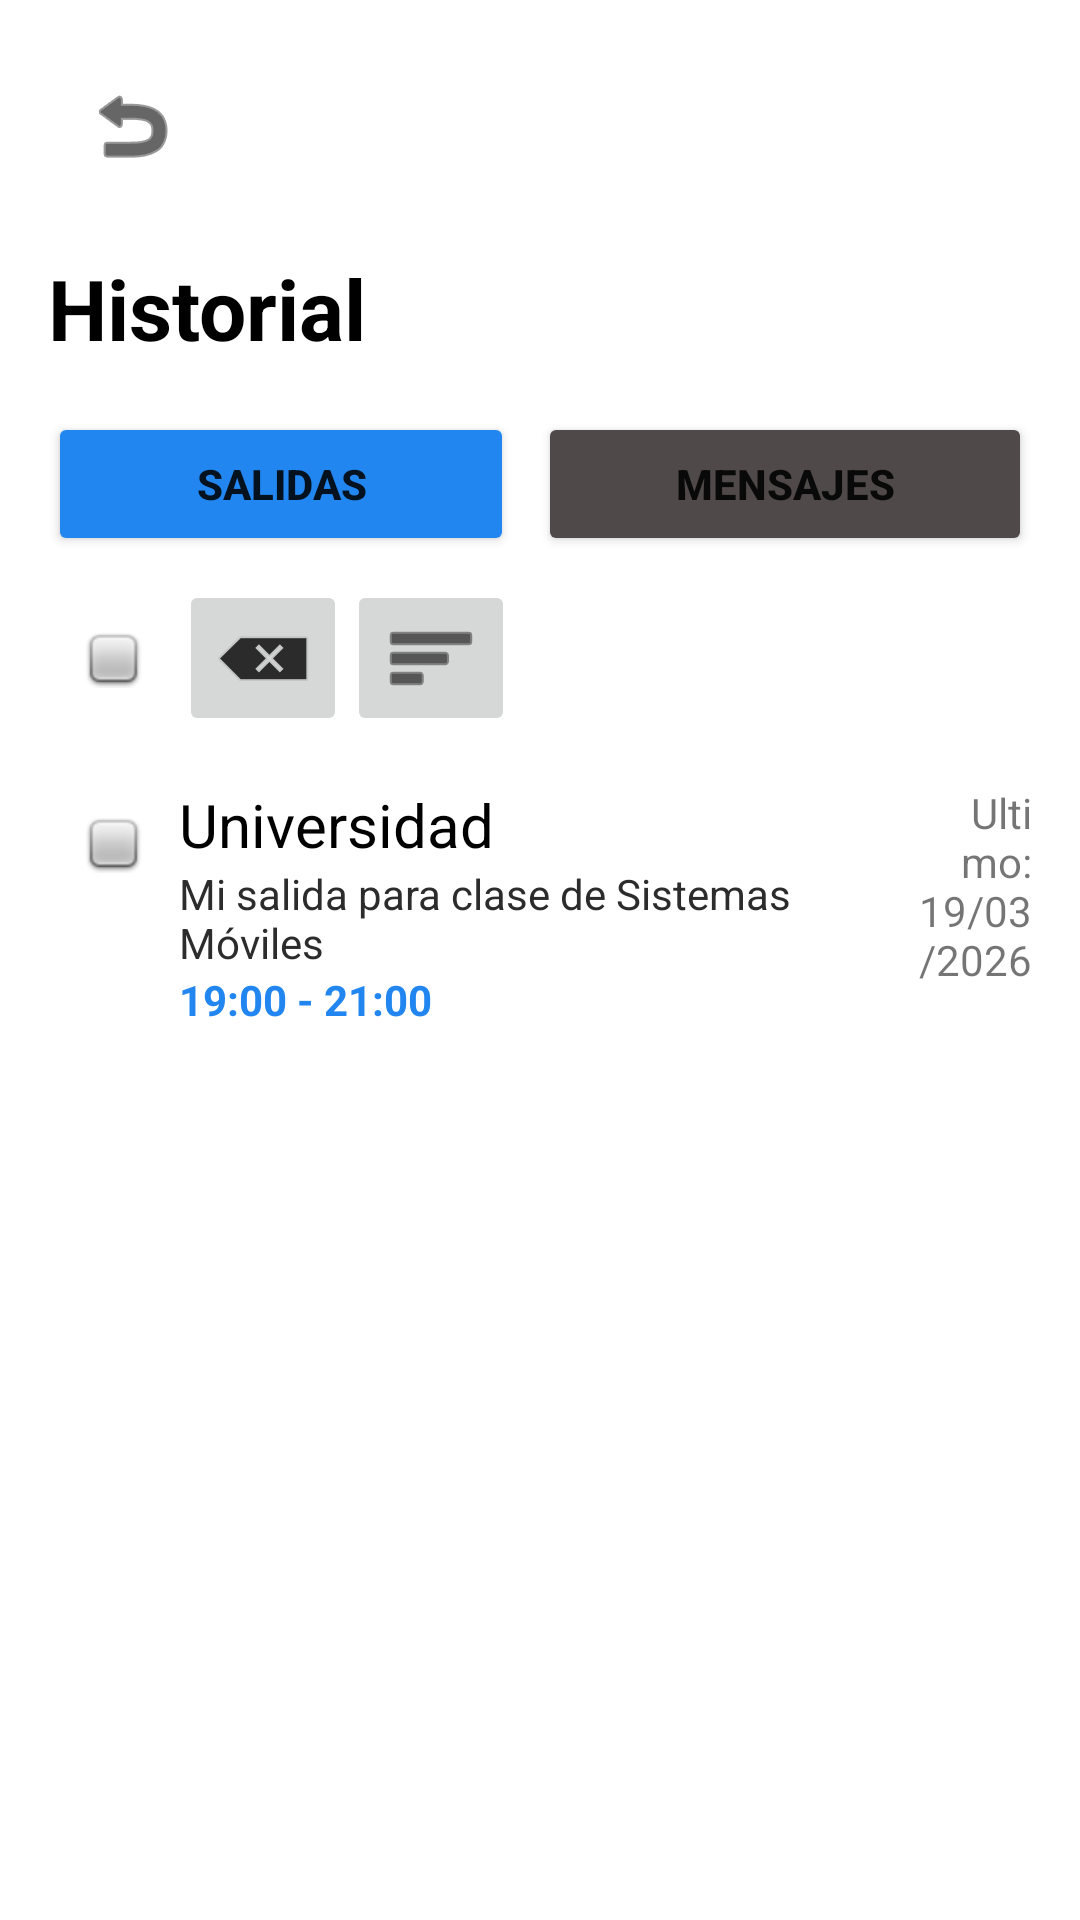

Named icons in this screenshot (1080 × 1920) and their bounding boxes, BBox(x1, y1, x2, y2):
delete: BBox(191, 598, 335, 718)
Regresar: BBox(99, 95, 168, 158)
sort by size: BBox(359, 598, 503, 718)
